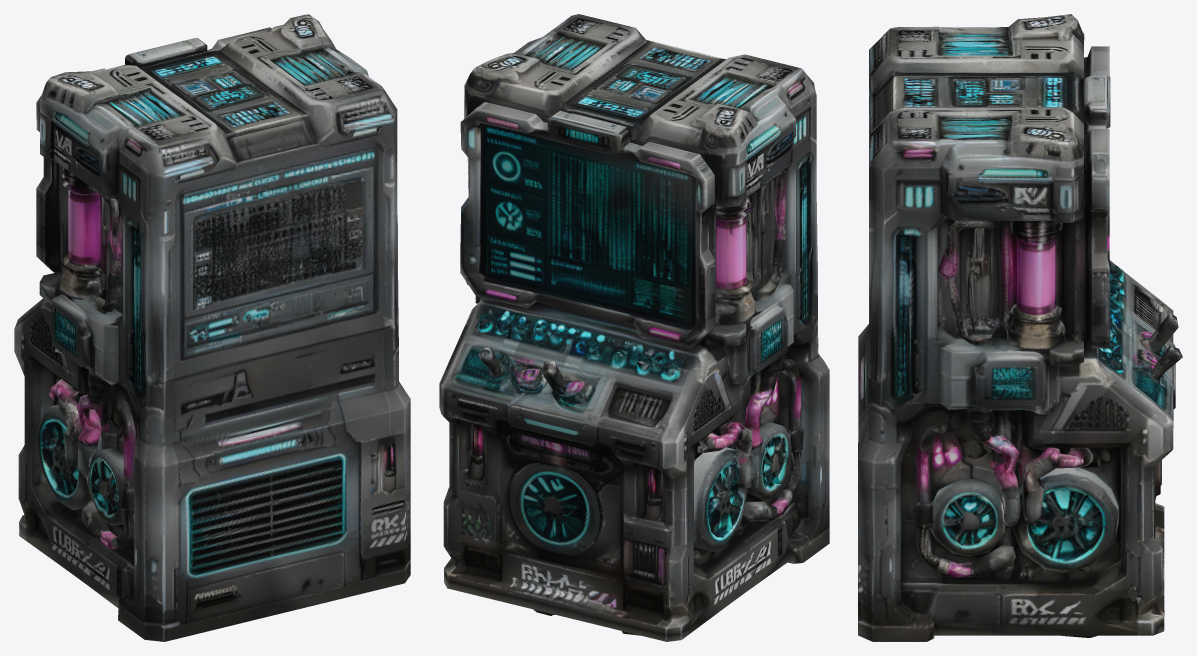
Rendered from tripo_convert_282f0ecd-42d0-4b15-89c8-776e9dd358df.fbx.
3 views of the same model, side by side, from view 1: azimuth 30°, elevation 25°; view 2: azimuth 150°, elevation 25°; view 3: azimuth 270°, elevation 25° (orthographic). The views are drawn at different scales.
Parts seen in each view (by area): view 1: tripo_node_282f0ecd; view 2: tripo_node_282f0ecd; view 3: tripo_node_282f0ecd.
Boxes of the visible parts, x1,y1,x2,y2 form: tripo_node_282f0ecd: (14,14,410,641); tripo_node_282f0ecd: (439,14,829,641); tripo_node_282f0ecd: (858,14,1182,641).
Bounding box in the file's own units: 0.5735 × 0.9998 × 0.5545.
Materials: 1 (1 with a texture image).
